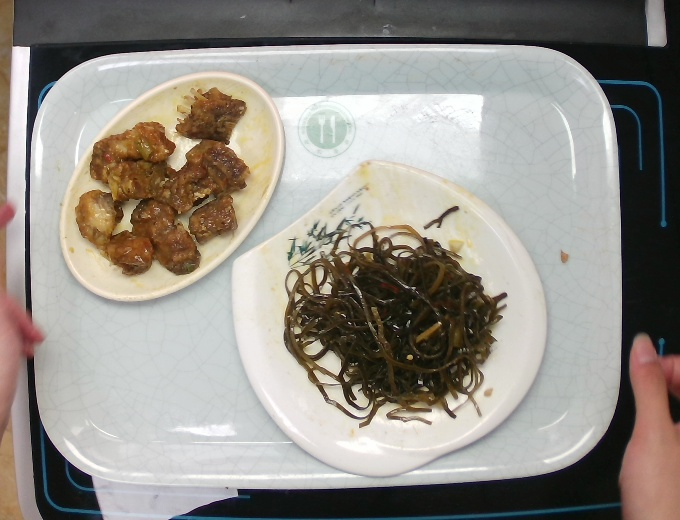JYsf-Mian_Pan: (227, 156, 551, 479)
JYsf-Tuo_Yuan_Wan: (56, 68, 289, 304)
